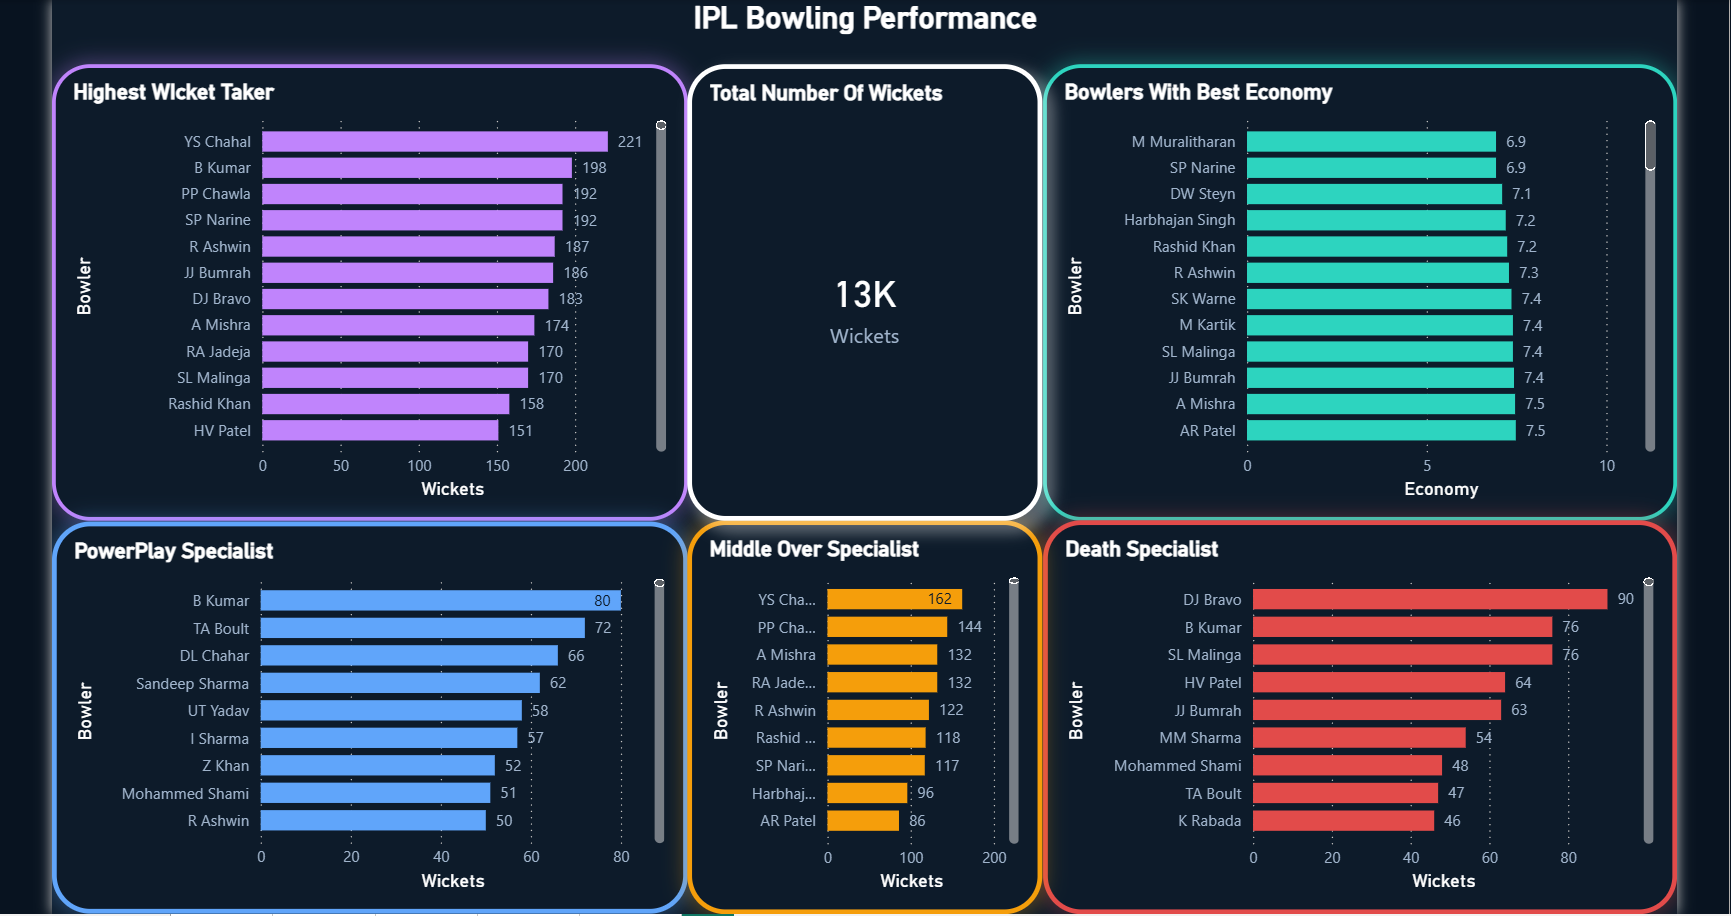

This screenshot's page, from the dashboard's own definition file:
{"tool":"powerbi","page":{"name":"Page 2","canvas":[1280,720],"ordinal":1},"visuals":[{"type":"textbox","title":"IPL Bowling Performance","box":[500.8,0,291.9,59.9],"z":0},{"type":"barChart","title":"Highest WIcket Taker","fields":{"Category":["top_wicket_taker.bowler"],"Y":["Sum(top_wicket_taker.wicket_kind)"]},"box":[0,50.2,500.8,359.5],"z":1000},{"type":"barChart","title":"Bowlers With Best Economy","fields":{"Category":["best_economy.bowler"],"Y":["Sum(best_economy.economy)"]},"box":[780.4,50.2,499.2,359.5],"z":2000},{"type":"barChart","title":"PowerPlay Specialist","fields":{"Category":["PP_wicket_takers.bowler"],"Y":["Sum(PP_wicket_takers.bowler_wicket)"]},"box":[0,411.2,500.8,308.8],"z":3000},{"type":"barChart","title":"Death Specialist","fields":{"Category":["death_specialist.bowler"],"Y":["Sum(death_specialist.bowler_wicket)"]},"box":[780.4,409.7,499.2,310.3],"z":4000},{"type":"barChart","title":"Middle Over Specialist","fields":{"Category":["middle_over_specialist.bowler"],"Y":["Sum(middle_over_specialist.bowler_wicket)"]},"box":[500.8,409.7,279.6,310.3],"z":5000},{"type":"card","title":"Total Number Of Wickets","fields":{"Values":["Sum(top_wicket_taker.wicket_kind)"]},"box":[500.8,50.7,279.6,359.5],"z":6000}]}

Visuals, with their boxes in screenshot pixels (x1, y1, x2, y2):
"IPL Bowling Performance" textbox: box=[686, 0, 1052, 75]
"Highest WIcket Taker" barChart: box=[59, 63, 686, 514]
"Bowlers With Best Economy" barChart: box=[1037, 63, 1662, 514]
"PowerPlay Specialist" barChart: box=[59, 515, 686, 902]
"Death Specialist" barChart: box=[1037, 514, 1662, 902]
"Middle Over Specialist" barChart: box=[686, 514, 1037, 902]
"Total Number Of Wickets" card: box=[686, 64, 1037, 514]
